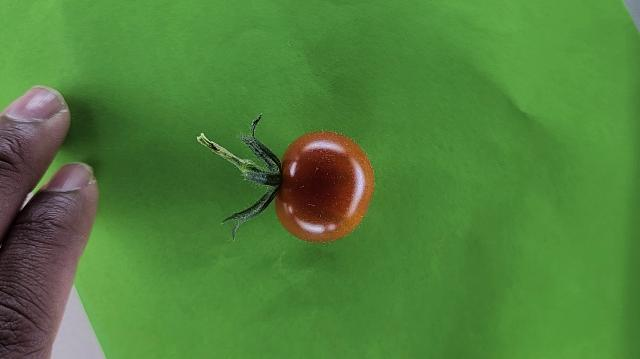Fully Grown: (272, 130, 376, 243)
